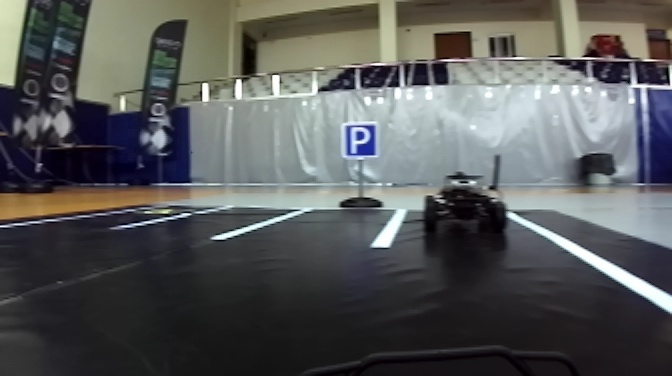park: (341, 124, 379, 161)
